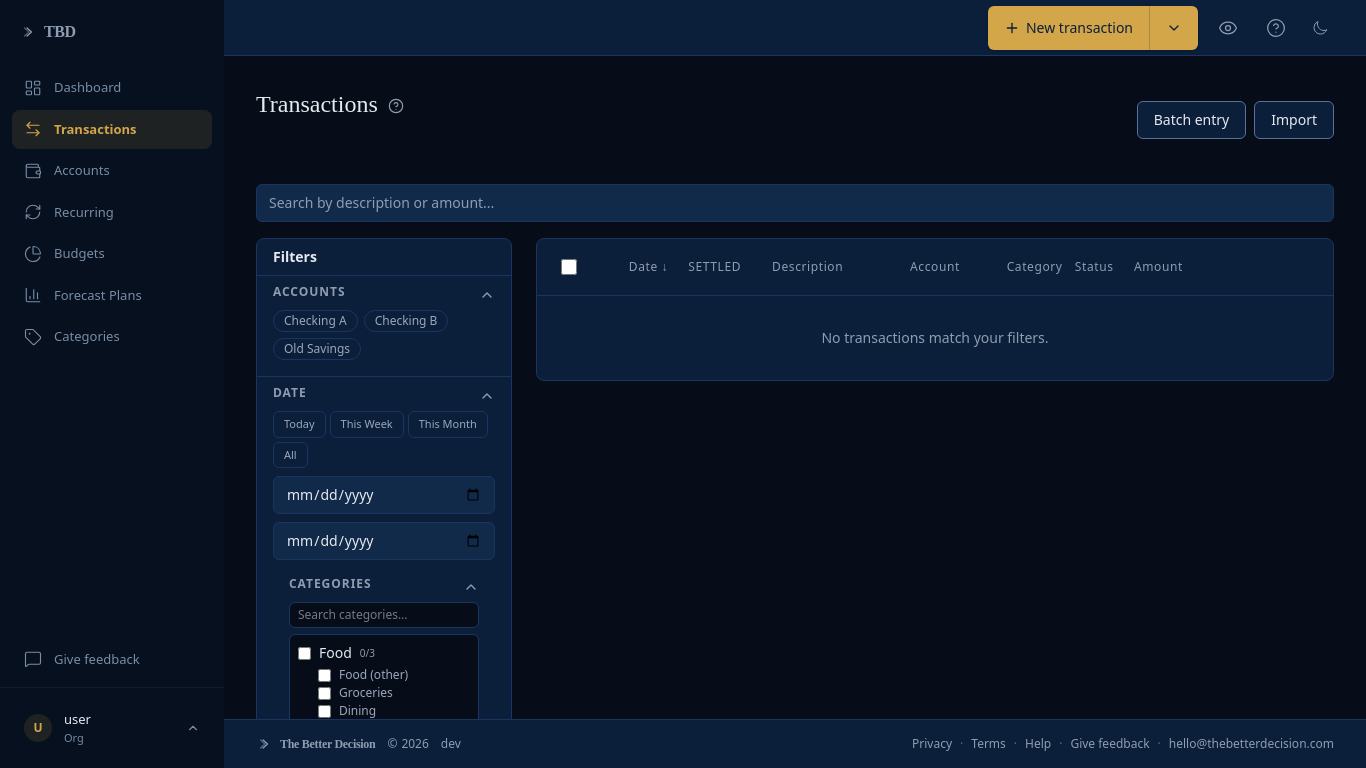
Test: TransactionsPage — filter side panel (TBD-464) › the group toggle checks and clears the whole group; a missing sub leaves it partial; the request is exact
The width and height of the screenshot is (1366, 768).
Expected: the button with aria-label "Account Checking A" is shown, [273, 310, 358, 332]
Click the checkbox named "Category Food" at (304,653), box [298, 646, 311, 660]
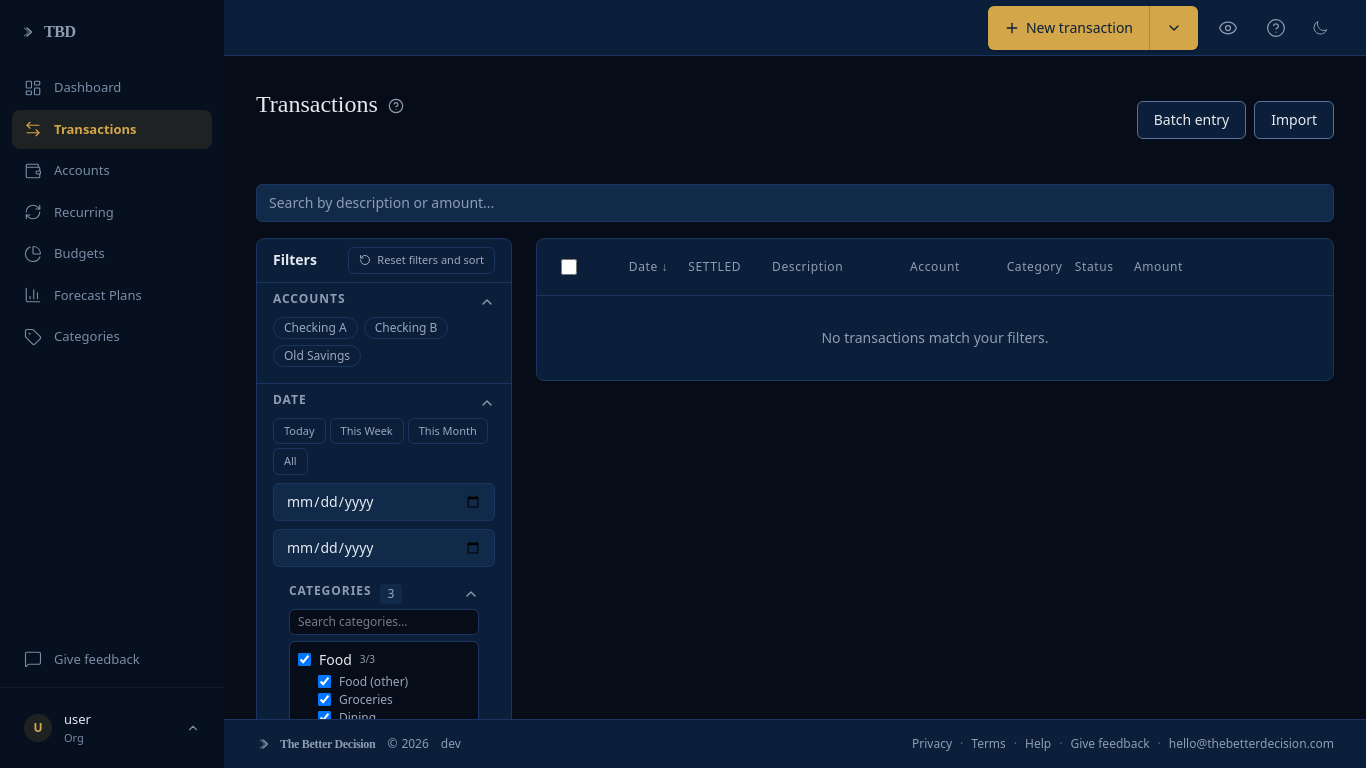
Click the checkbox named "Category Dining" at (324,718), box [318, 711, 331, 724]
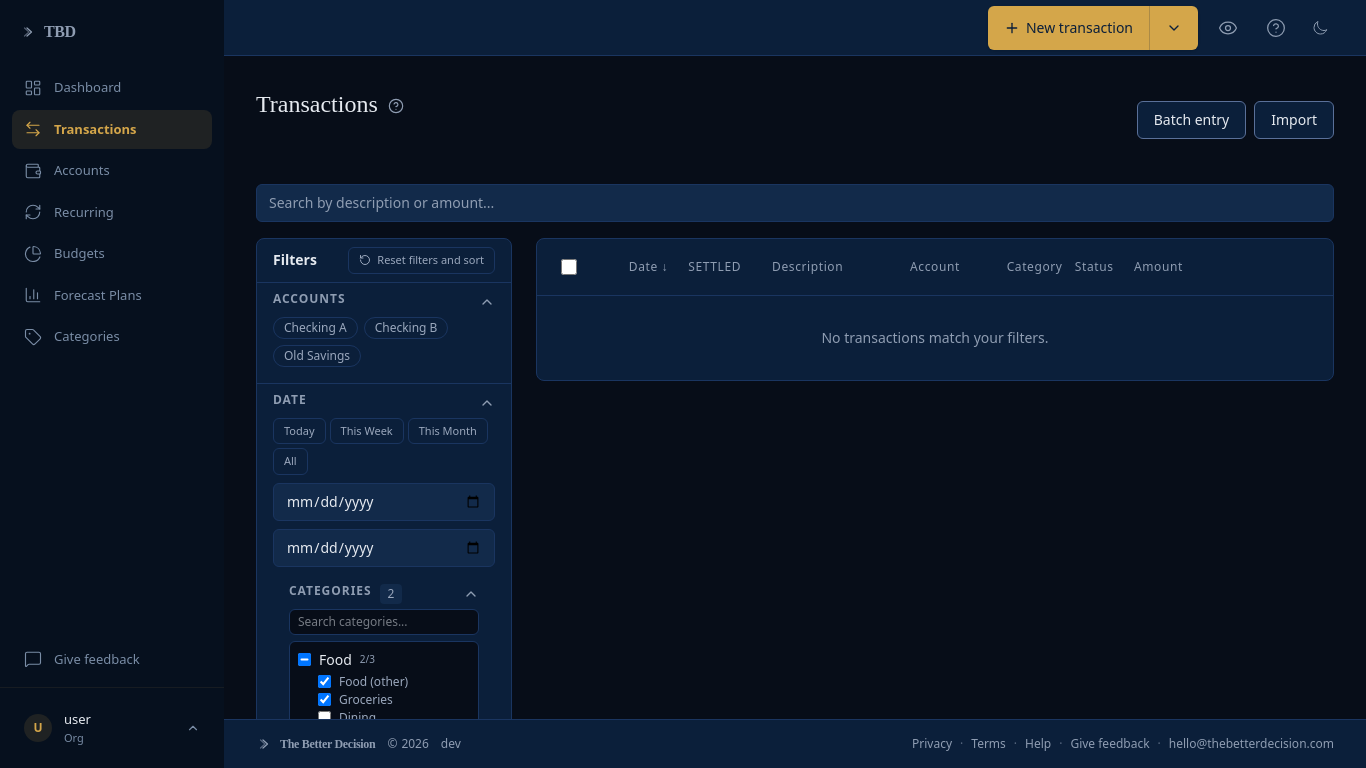
Now the checkbox named "Category Food" is not checked
Click the checkbox named "Category Food" at (304,660), box [298, 653, 311, 666]
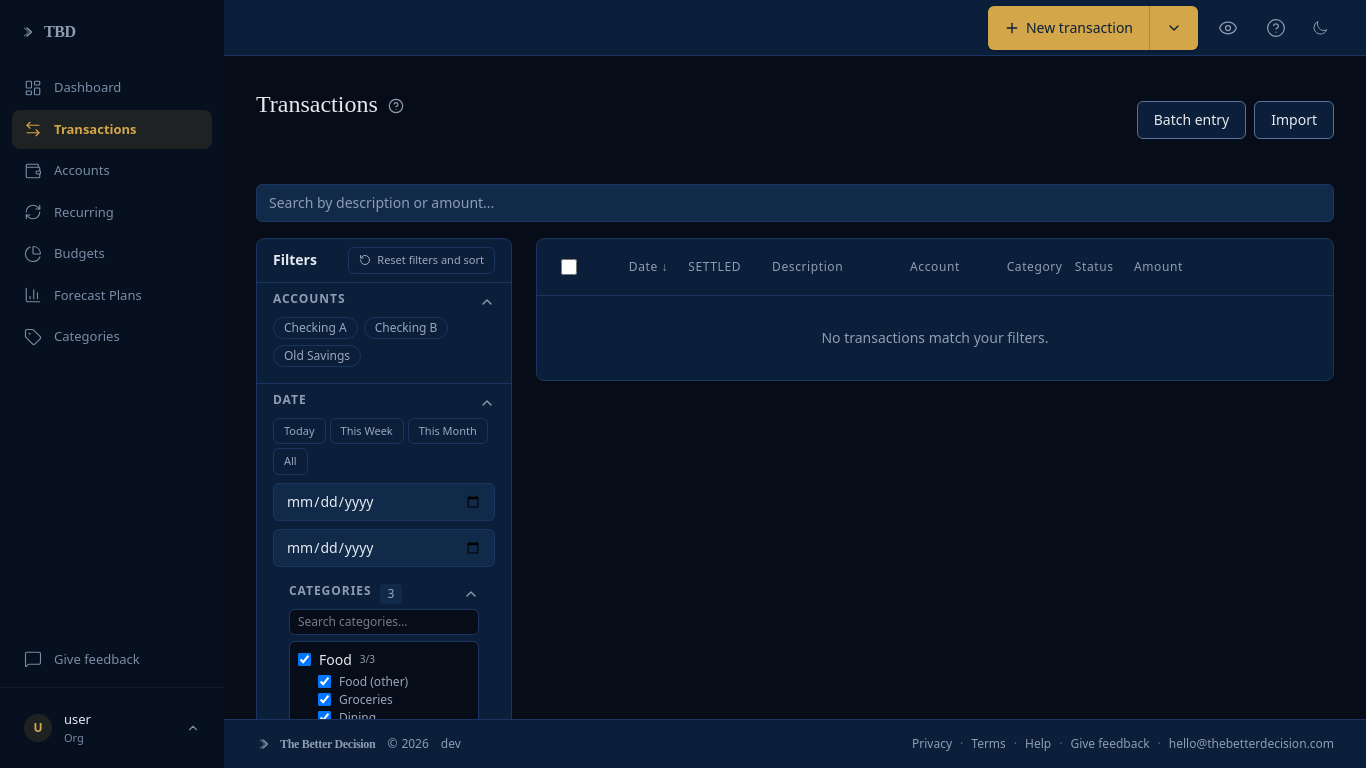
Click the checkbox named "Category Food" at (304,660), box [298, 653, 311, 666]
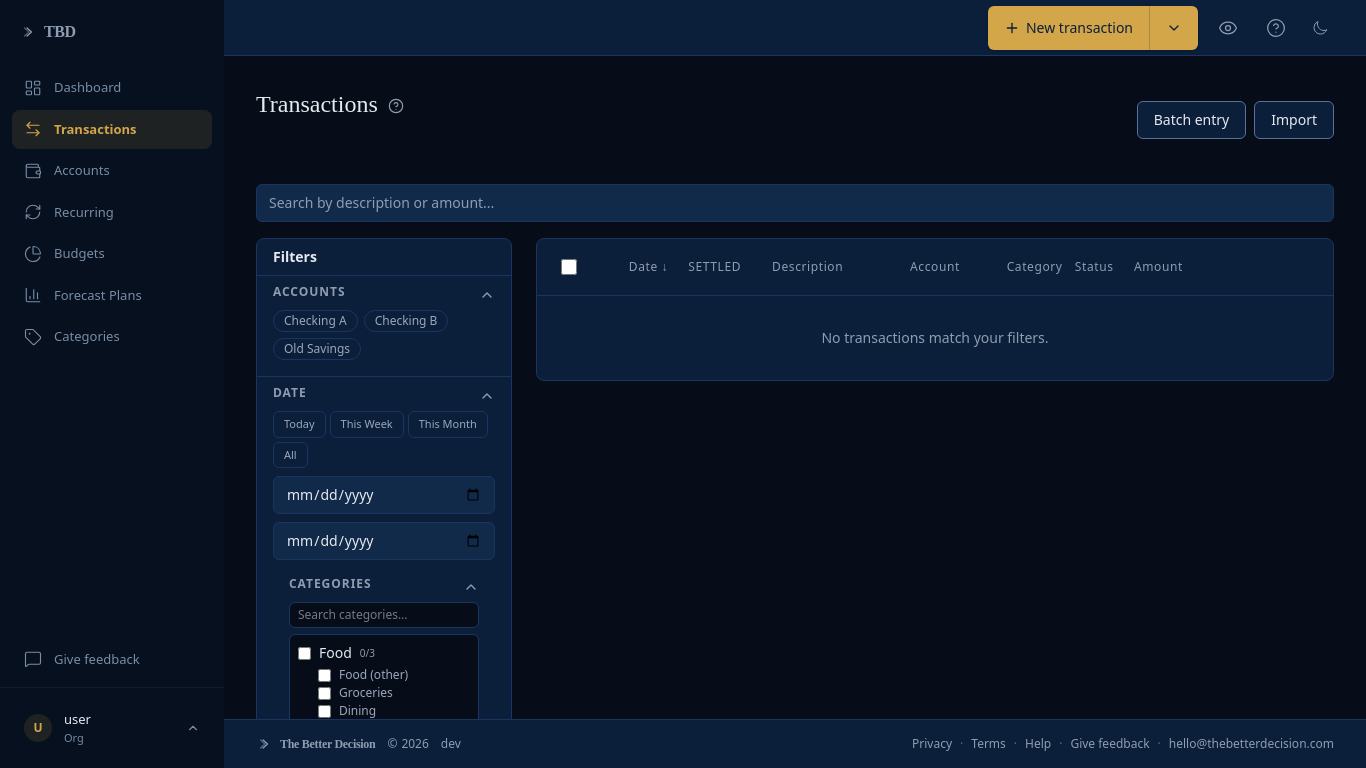
Now the checkbox named "Category Groceries" is not checked, box [318, 686, 331, 700]
